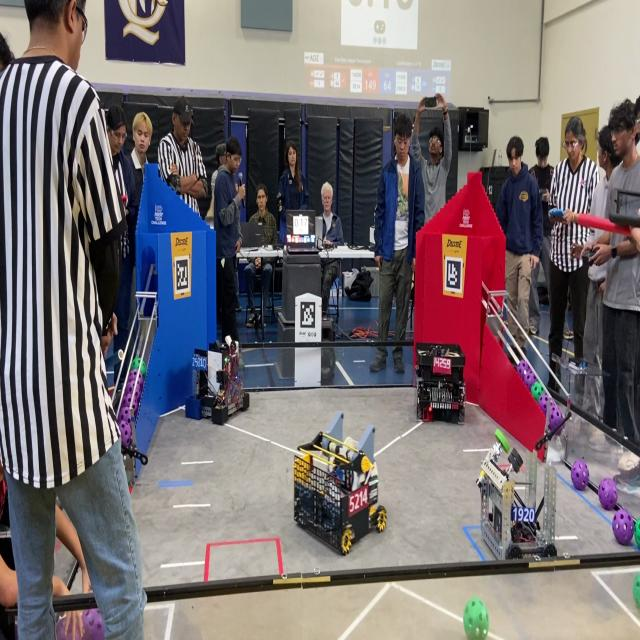artifact_green: (463, 598, 489, 639), (495, 429, 509, 453), (130, 357, 146, 377), (523, 371, 537, 391), (531, 382, 544, 402), (633, 574, 639, 608), (634, 519, 639, 546)
artifact_purple: (612, 510, 633, 545), (55, 614, 84, 639), (598, 478, 618, 510), (82, 610, 104, 639), (571, 460, 589, 490), (549, 403, 563, 431), (123, 394, 138, 416), (119, 422, 132, 447), (524, 370, 537, 391), (517, 360, 530, 380), (127, 371, 143, 387), (538, 393, 549, 416), (118, 403, 131, 422), (124, 381, 141, 395), (132, 377, 144, 393), (117, 403, 126, 423), (127, 371, 141, 383), (133, 394, 141, 414), (123, 393, 133, 407), (131, 399, 138, 417), (134, 384, 143, 398), (134, 393, 141, 406), (129, 369, 137, 379), (127, 371, 135, 381)
